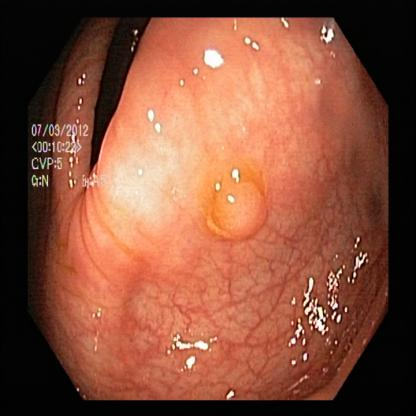Labels: (30, 115, 116, 196)
Polyps: (199, 169, 292, 254)
